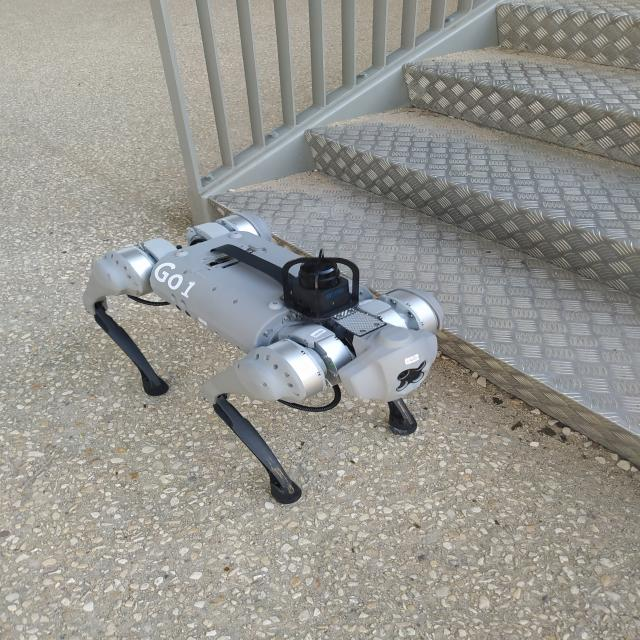unitree-go1-robot: (69, 198, 450, 514)
